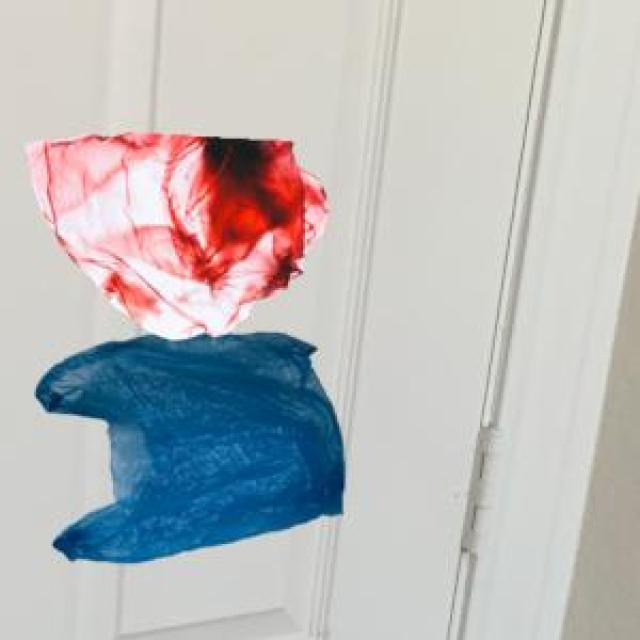plastic: (6, 106, 448, 602)
